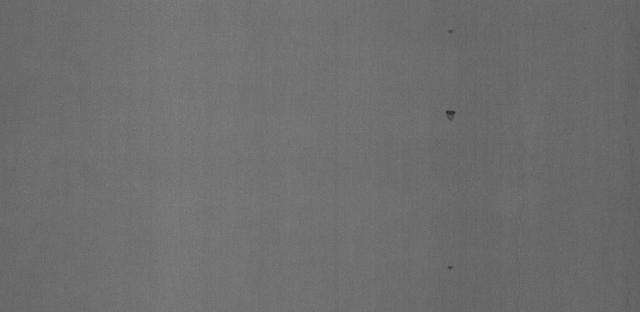inclusion: (445, 105, 458, 123), (445, 27, 455, 37), (445, 263, 454, 272)
